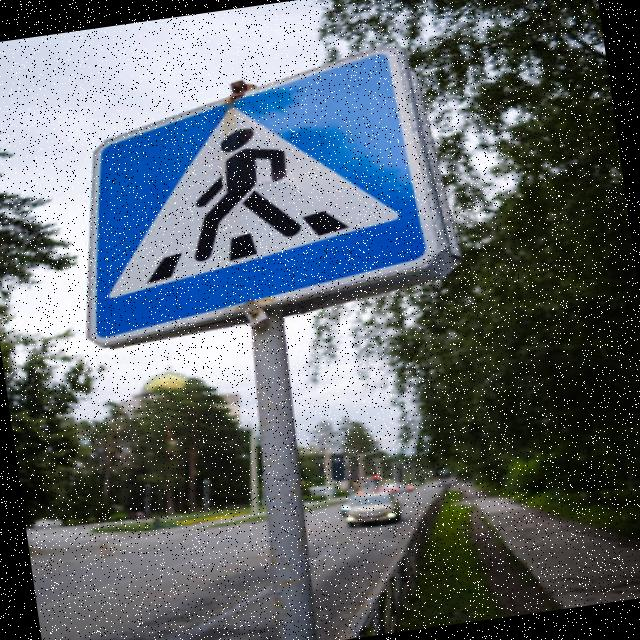crosswalk: (43, 16, 474, 351)
